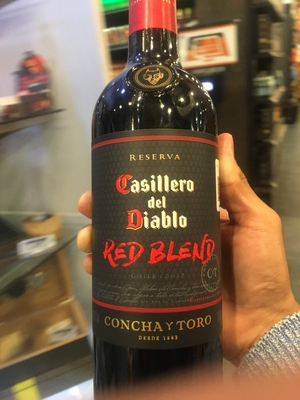casillero del diablo red blend: (70, 6, 253, 394)
